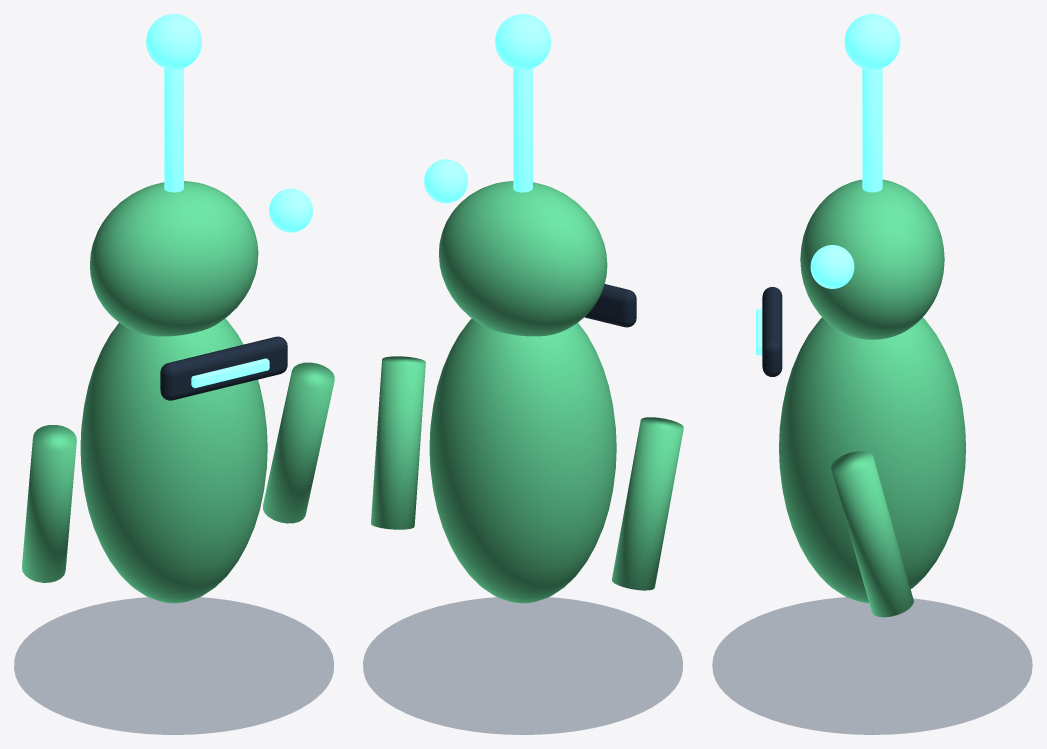
The model's file is sonar.glb.
3 renders of one model, left to right at view 1: azimuth 30°, elevation 25°; view 2: azimuth 150°, elevation 25°; view 3: azimuth 270°, elevation 25°, orthographic.
Visible parts, largest first — view 1: sonar_tall_body, sonar_soft_shadow_disc, sonar_head, sonar_right_arm, sonar_left_arm, sonar_visor, sonar_probe_light, sonar_antenna, sonar_status_beacon, sonar_visor_glow; view 2: sonar_tall_body, sonar_soft_shadow_disc, sonar_head, sonar_right_arm, sonar_left_arm, sonar_probe_light, sonar_antenna, sonar_status_beacon, sonar_visor; view 3: sonar_tall_body, sonar_soft_shadow_disc, sonar_head, sonar_right_arm, sonar_antenna, sonar_probe_light, sonar_visor, sonar_status_beacon.
Part boxes in pixels (box(x1,y1,x2,y2)): sonar_tall_body: box(80, 318, 267, 603); sonar_soft_shadow_disc: box(14, 597, 333, 734); sonar_head: box(90, 181, 258, 336); sonar_right_arm: box(263, 362, 334, 523); sonar_left_arm: box(22, 425, 76, 582); sonar_visor: box(160, 336, 287, 400); sonar_probe_light: box(146, 14, 201, 69); sonar_antenna: box(164, 68, 183, 192); sonar_status_beacon: box(269, 188, 312, 232); sonar_visor_glow: box(191, 358, 269, 387); sonar_tall_body: box(429, 318, 616, 603); sonar_soft_shadow_disc: box(363, 597, 682, 734); sonar_head: box(439, 181, 607, 336); sonar_right_arm: box(371, 356, 425, 529); sonar_left_arm: box(612, 417, 683, 590); sonar_probe_light: box(495, 14, 550, 69); sonar_antenna: box(513, 68, 532, 192); sonar_status_beacon: box(424, 159, 467, 203); sonar_visor: box(584, 284, 636, 327); sonar_tall_body: box(779, 317, 965, 602); sonar_soft_shadow_disc: box(712, 597, 1032, 734); sonar_head: box(800, 179, 944, 339); sonar_right_arm: box(831, 451, 913, 617); sonar_antenna: box(862, 68, 882, 192); sonar_probe_light: box(844, 14, 900, 69); sonar_visor: box(762, 287, 782, 376); sonar_status_beacon: box(810, 245, 854, 288).
Size of the model in its own units: 0.8552 by 1.8 by 0.8.
